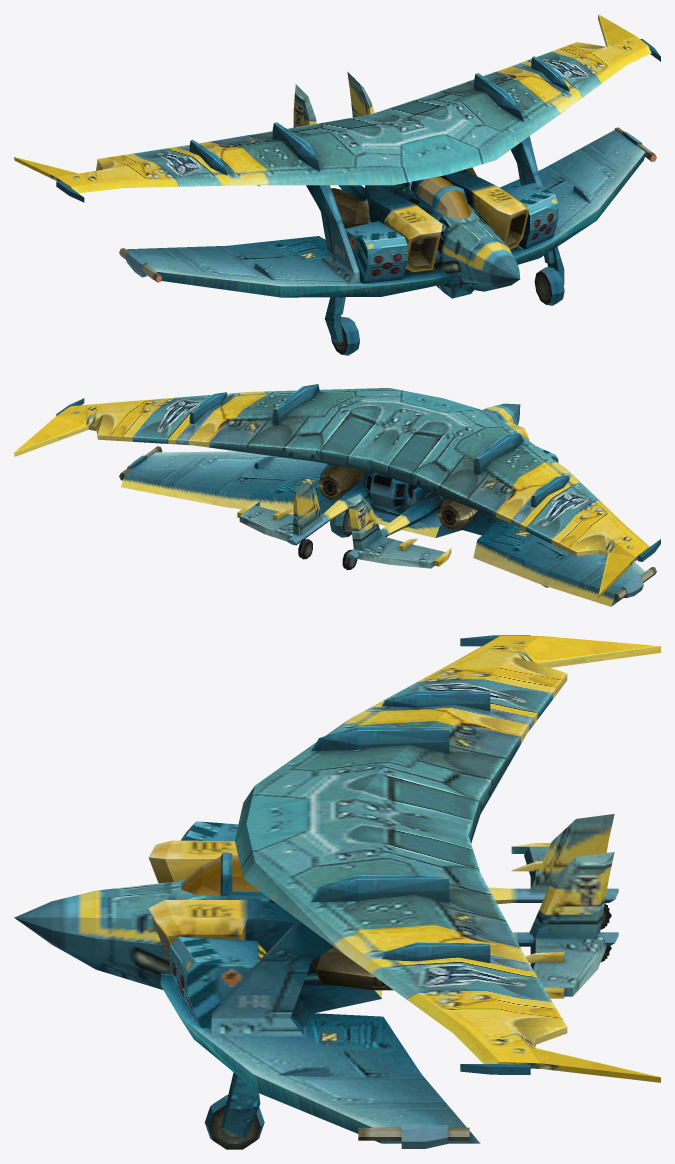
Rendered from VXFTRH.obj.
3 renders of one model, top to bottom at view 1: azimuth 30°, elevation 25°; view 2: azimuth 150°, elevation 25°; view 3: azimuth 270°, elevation 25°, orthographic. The views are drawn at different scales.
Visible parts, largest first — view 1: Node 0, Node 7, Node 6, Node 1, Node 22, Node 19, Node 23, Node 20, Node 24; view 2: Node 0, Node 16, Node 19, Node 20, Node 22; view 3: Node 0, Node 6, Node 20, Node 19, Node 21, Node 1, Node 22, Node 7.
Boxes of the visible parts, bbox=[...] form: Node 0: bbox=[14, 14, 660, 298]; Node 7: bbox=[345, 221, 407, 283]; Node 6: bbox=[504, 182, 558, 249]; Node 1: bbox=[417, 176, 472, 219]; Node 22: bbox=[534, 267, 564, 305]; Node 19: bbox=[293, 84, 316, 127]; Node 23: bbox=[324, 297, 345, 342]; Node 20: bbox=[347, 72, 374, 117]; Node 24: bbox=[331, 317, 359, 355]; Node 0: bbox=[14, 384, 660, 606]; Node 16: bbox=[366, 471, 416, 513]; Node 19: bbox=[347, 494, 382, 550]; Node 20: bbox=[293, 481, 322, 535]; Node 22: bbox=[330, 510, 351, 537]; Node 0: bbox=[14, 635, 660, 1148]; Node 6: bbox=[169, 936, 266, 1028]; Node 20: bbox=[529, 852, 614, 938]; Node 19: bbox=[529, 814, 614, 891]; Node 21: bbox=[221, 1072, 260, 1138]; Node 1: bbox=[181, 855, 260, 895]; Node 22: bbox=[204, 1095, 264, 1149]; Node 7: bbox=[180, 821, 238, 841].
Size of the model in its own units: 16.72 by 4.87 by 10.58.
Materials: 18 (18 with a texture image).
